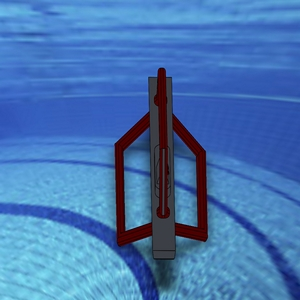submarine: (54, 56, 272, 276)
